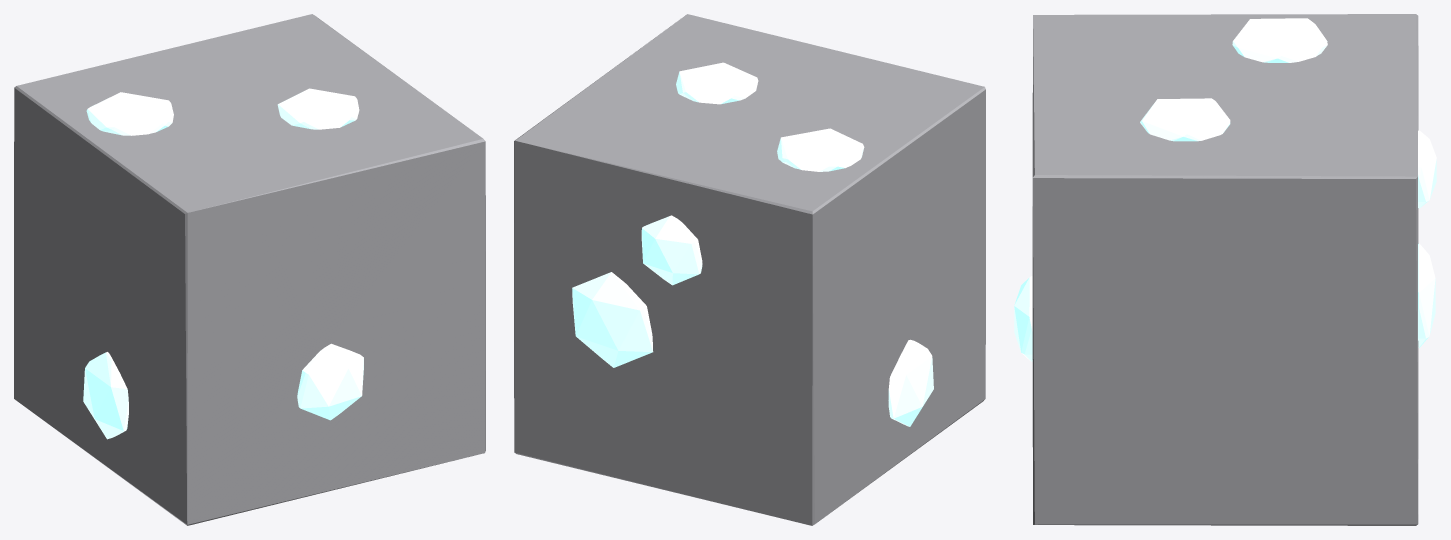
Rendered from ore_gem.glb.
3 views of the same model, side by side, from view 1: azimuth 30°, elevation 25°; view 2: azimuth 150°, elevation 25°; view 3: azimuth 270°, elevation 25° (orthographic). The views are drawn at different scales.
Parts seen in each view (by area): view 1: ore_gem; view 2: ore_gem; view 3: ore_gem.
Part boxes in pixels (x1=…): ore_gem: x1=14, y1=14, x2=485, y2=525; ore_gem: x1=514, y1=14, x2=985, y2=525; ore_gem: x1=1014, y1=14, x2=1436, y2=525.
Bounding box in the file's own units: 1.04 × 1.05 × 1.09.
